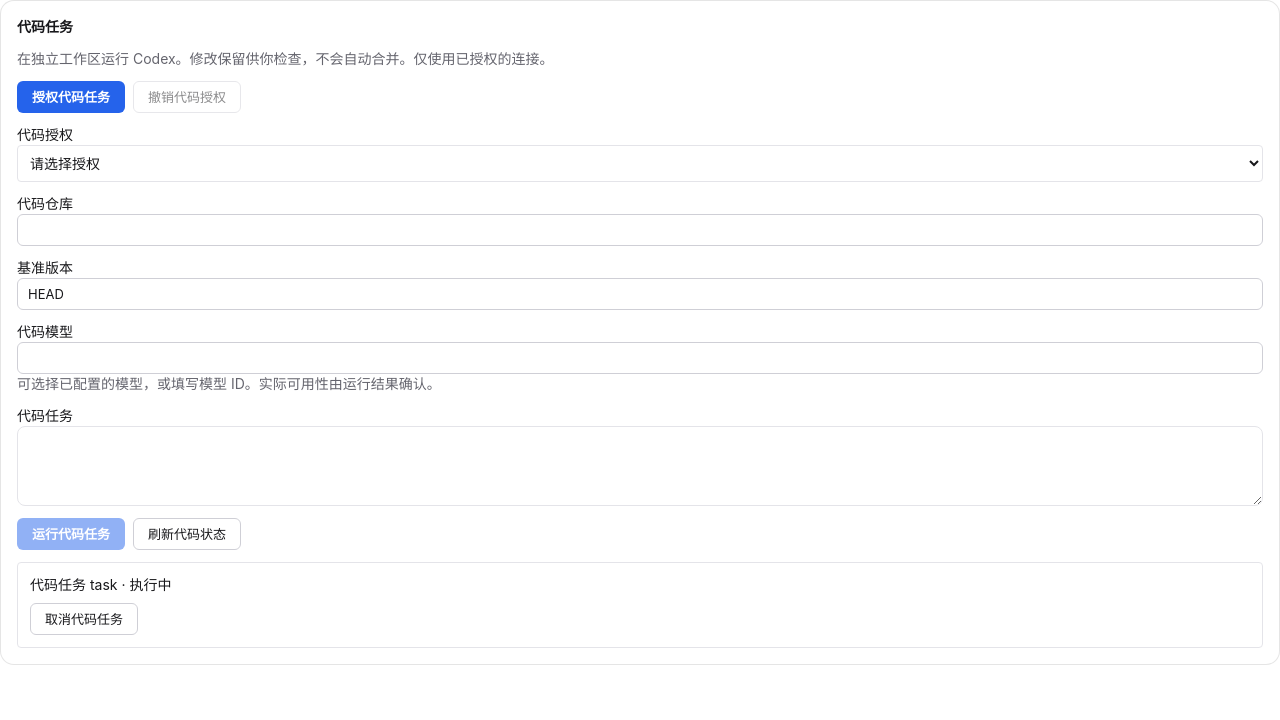
Scenario: does not let an old refresh re-enable cancellation after the owner disables it
This screenshot has width=1280, height=720.
Click the button "刷新代码状态" at (187, 534), box [133,518,241,550]
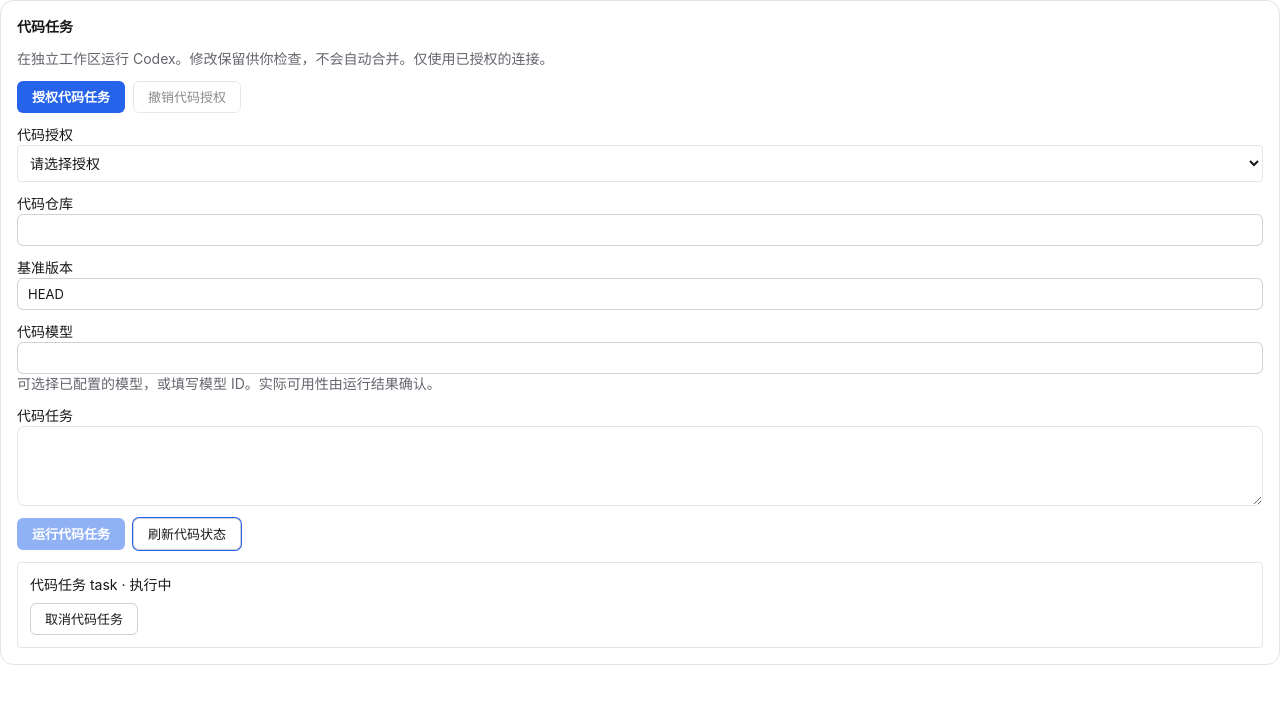
Click the button "取消代码任务" at (84, 619), box [30,603,138,635]
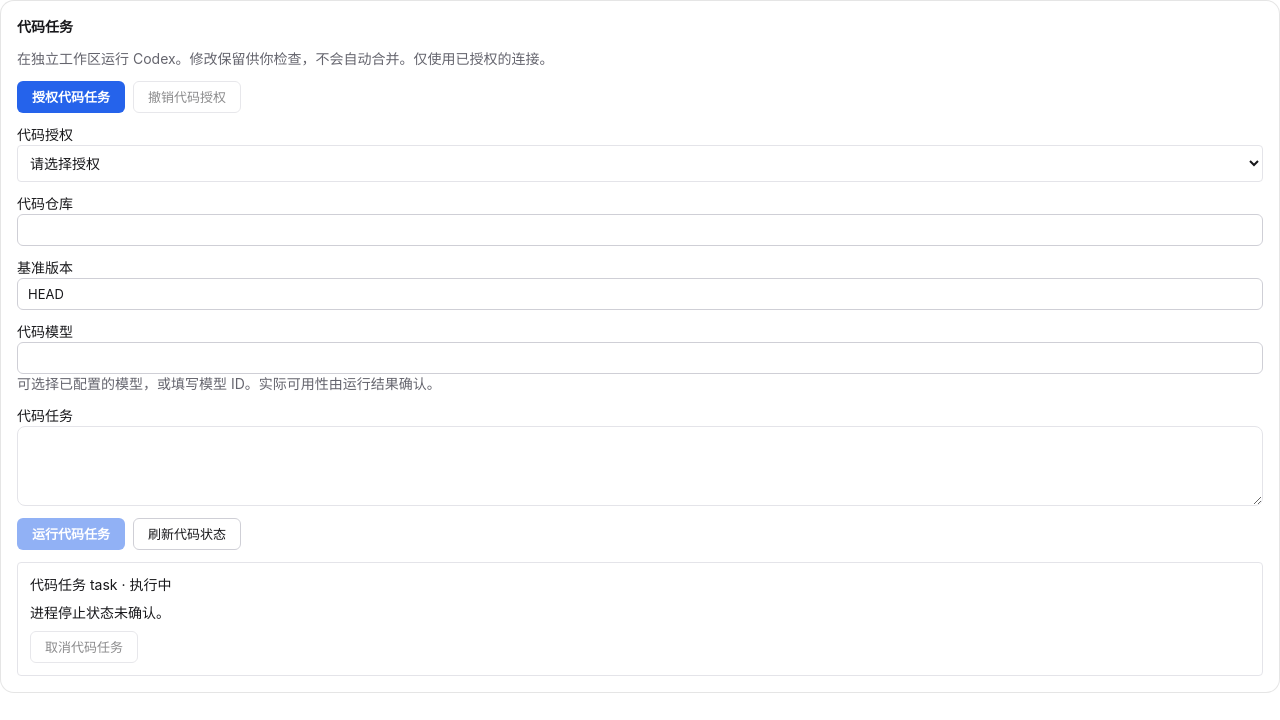
Now the button "取消代码任务" is disabled, box [30,631,138,663]
Now the text "进程停止状态未确认。" is shown, box [30,604,170,621]
